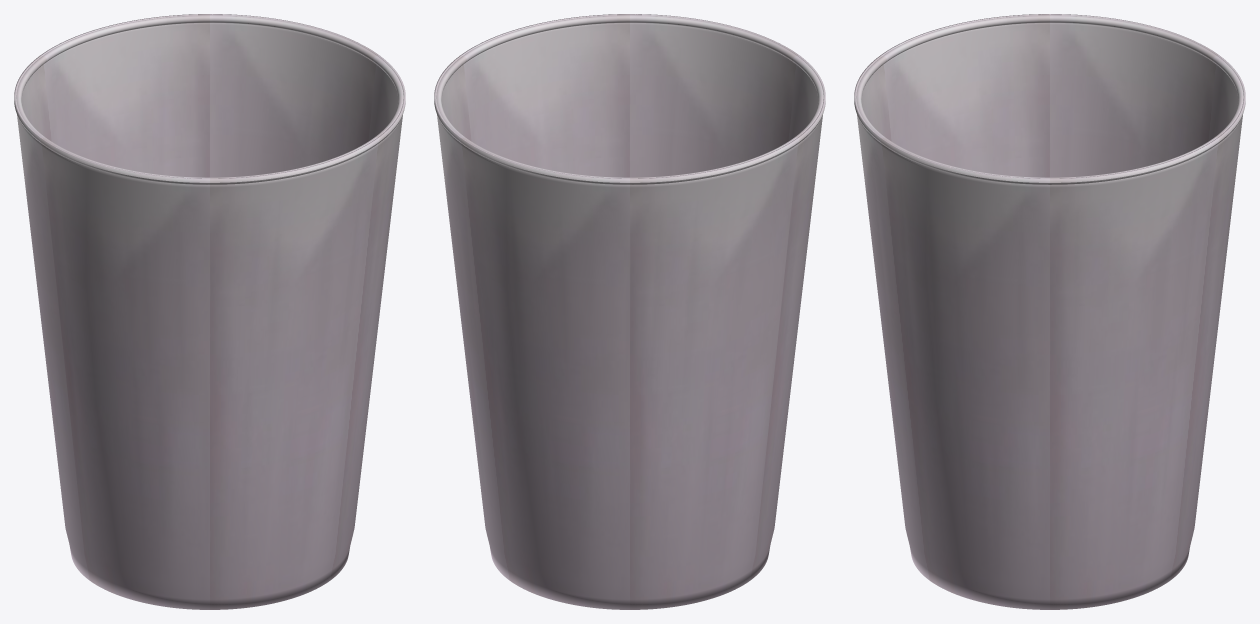
3 views of the same model, side by side, from view 1: azimuth 30°, elevation 25°; view 2: azimuth 150°, elevation 25°; view 3: azimuth 270°, elevation 25° (orthographic).
Parts seen in each view (by area): view 1: body; view 2: body; view 3: body.
Part boxes in pixels (box(x1,y1,x2,y2)): body: box(14, 14, 405, 609); body: box(434, 14, 825, 609); body: box(854, 14, 1245, 609).
Bounding box in the file's own units: 0.0773 × 0.099 × 0.0773.
1 material, 1 textured.
